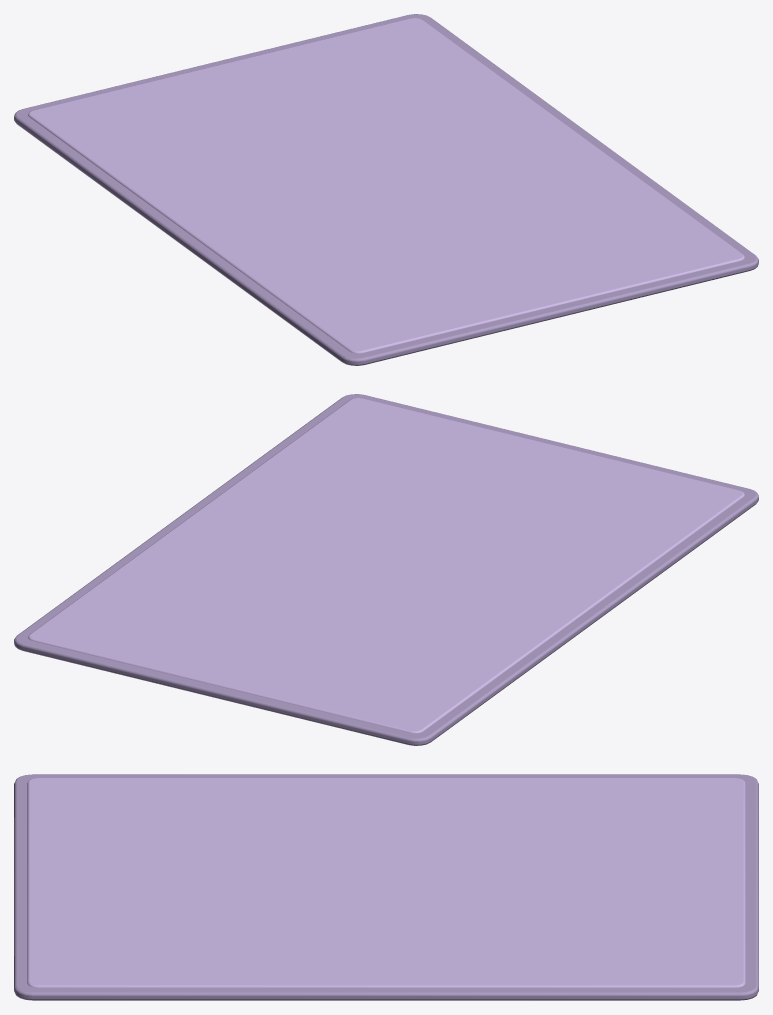
The model's file is rug_rect__103.glb.
3 views of the same model, one above another, from view 1: azimuth 30°, elevation 25°; view 2: azimuth 150°, elevation 25°; view 3: azimuth 270°, elevation 25° (orthographic). The views are drawn at different scales.
Parts seen in each view (by area): view 1: rug_rect__103; view 2: rug_rect__103; view 3: rug_rect__103.
Boxes of the visible parts, left/top/right/bottom form: rug_rect__103: left=14, top=14, right=758, bottom=365; rug_rect__103: left=14, top=394, right=758, bottom=745; rug_rect__103: left=14, top=774, right=758, bottom=1000.
Bounding box in the file's own units: 1.4 × 0.03 × 2.
